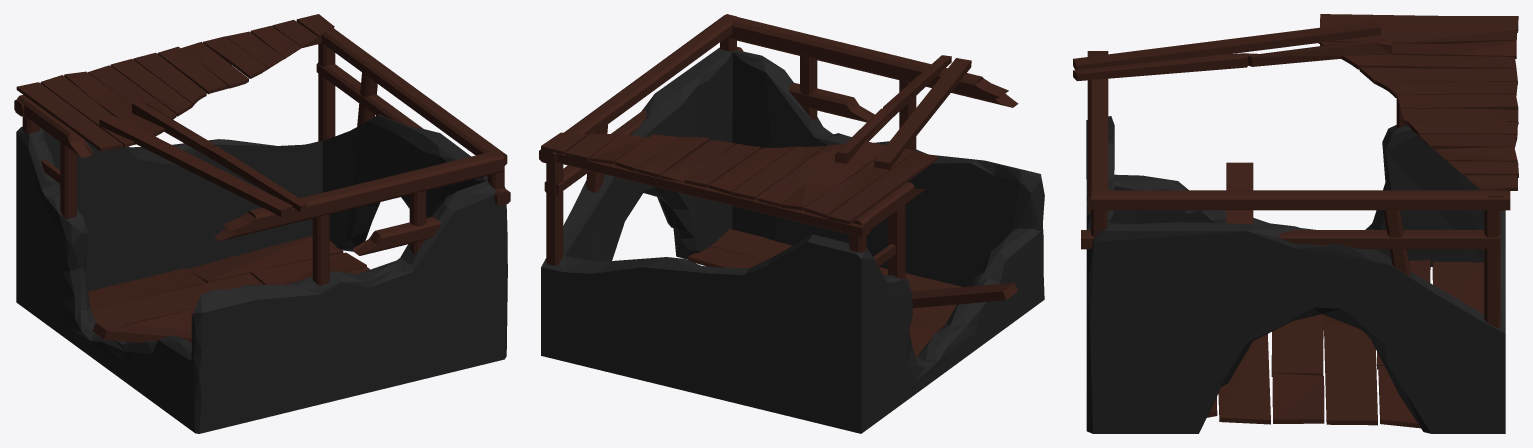
Rendered from civilian_house_ruin_a.FBX.
3 renders of one model, left to right at view 1: azimuth 30°, elevation 25°; view 2: azimuth 150°, elevation 25°; view 3: azimuth 270°, elevation 25°, orthographic. The views are drawn at different scales.
Visible parts, largest first — view 1: civilian_house_ruin_a; view 2: civilian_house_ruin_a; view 3: civilian_house_ruin_a.
Part boxes in pixels (x1,y1,x2,y2): civilian_house_ruin_a: (14,14,510,433); civilian_house_ruin_a: (539,14,1044,433); civilian_house_ruin_a: (1073,14,1518,433).
Bounding box in the file's own units: 663 × 413 × 638.
